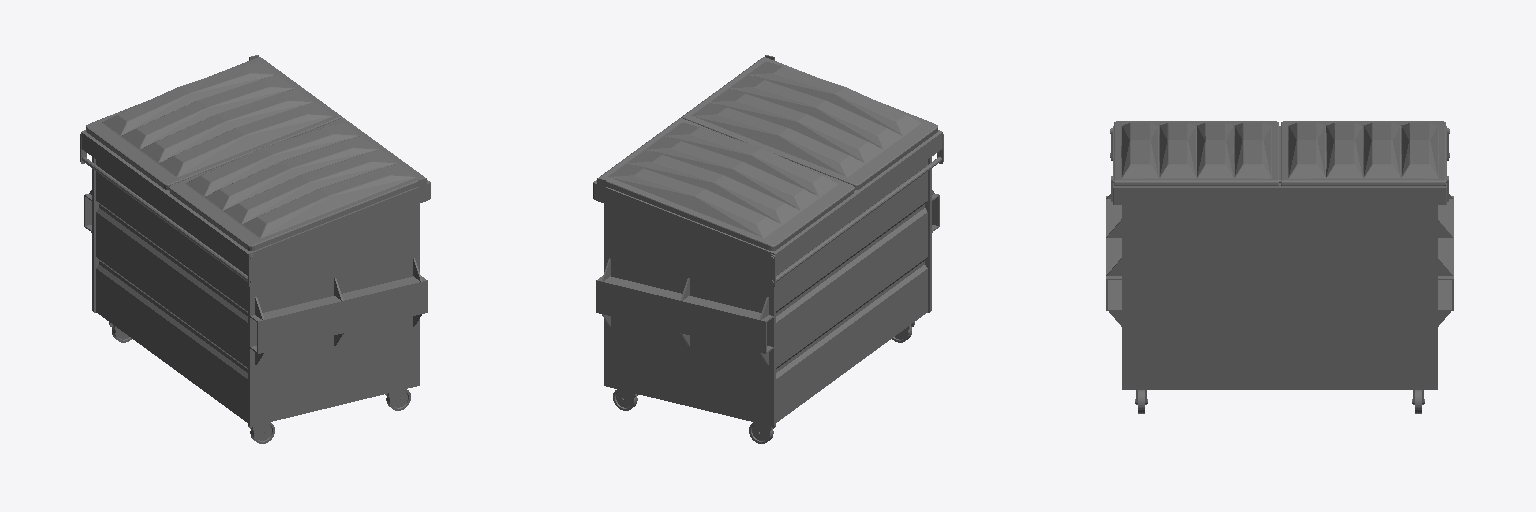
The model's file is dump.obj.
3 views of the same model, side by side, from view 1: azimuth 30°, elevation 25°; view 2: azimuth 150°, elevation 25°; view 3: azimuth 270°, elevation 25° (orthographic).
Visible parts, largest first — view 1: BIN_Mesh, LIDS_Mesh.001, WHEELS_Mesh.002; view 2: BIN_Mesh, LIDS_Mesh.001, WHEELS_Mesh.002; view 3: BIN_Mesh, LIDS_Mesh.001.
Boxes of the visible parts, x1,y1,x2,y2 form: BIN_Mesh: [80, 55, 430, 426]; LIDS_Mesh.001: [86, 57, 424, 250]; WHEELS_Mesh.002: [109, 322, 410, 443]; BIN_Mesh: [593, 55, 943, 426]; LIDS_Mesh.001: [599, 57, 937, 250]; WHEELS_Mesh.002: [613, 322, 914, 443]; BIN_Mesh: [1106, 126, 1453, 389]; LIDS_Mesh.001: [1114, 121, 1445, 185].
Bounding box in the file's own units: 1.2 × 1.51 × 1.97.